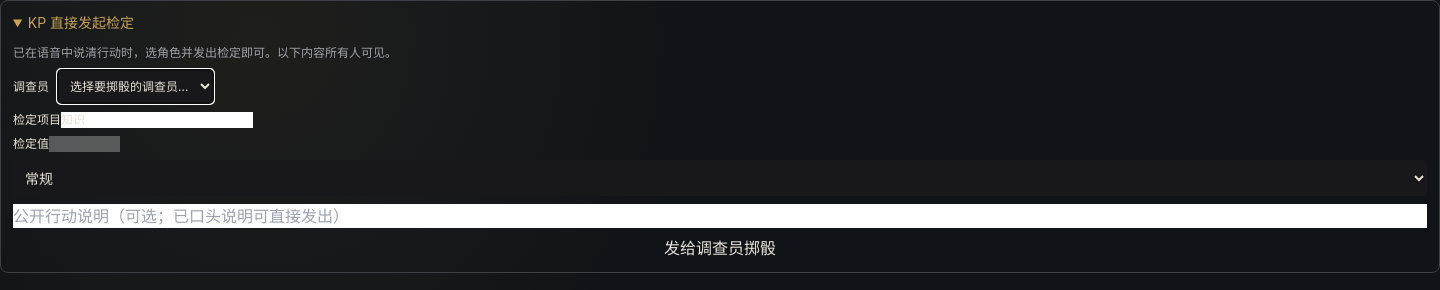
requires a named investigator when several cards are available and reads Know from EDU without extra narration
Later steps or results of the test are not shown.
Expected: the button "发给调查员掷骰" is disabled, [13,236,1427,260]
Select "另一位调查员" in the dropdown named "直接检定角色" at (136, 86), box [57,69,214,104]
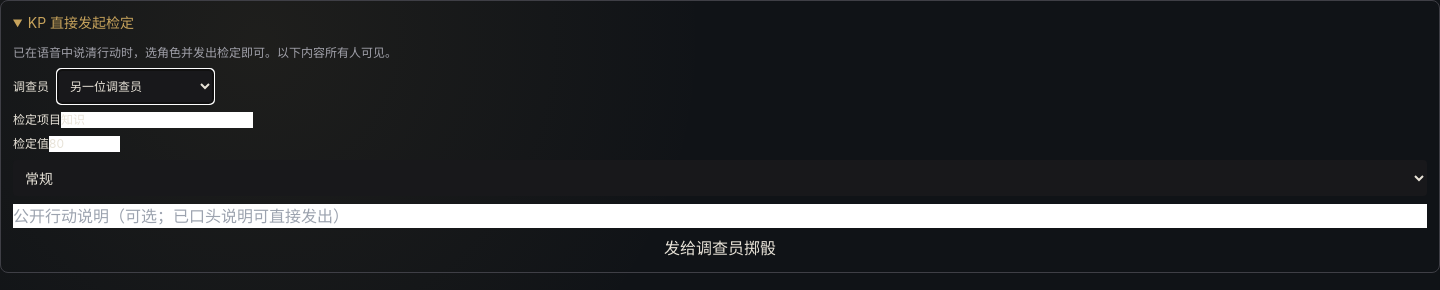
Expected: the field named "直接检定技能" holds "知识", [61,112,253,128]
Result: the number field named "直接检定数值" holds "80" at [49,136,120,152]
